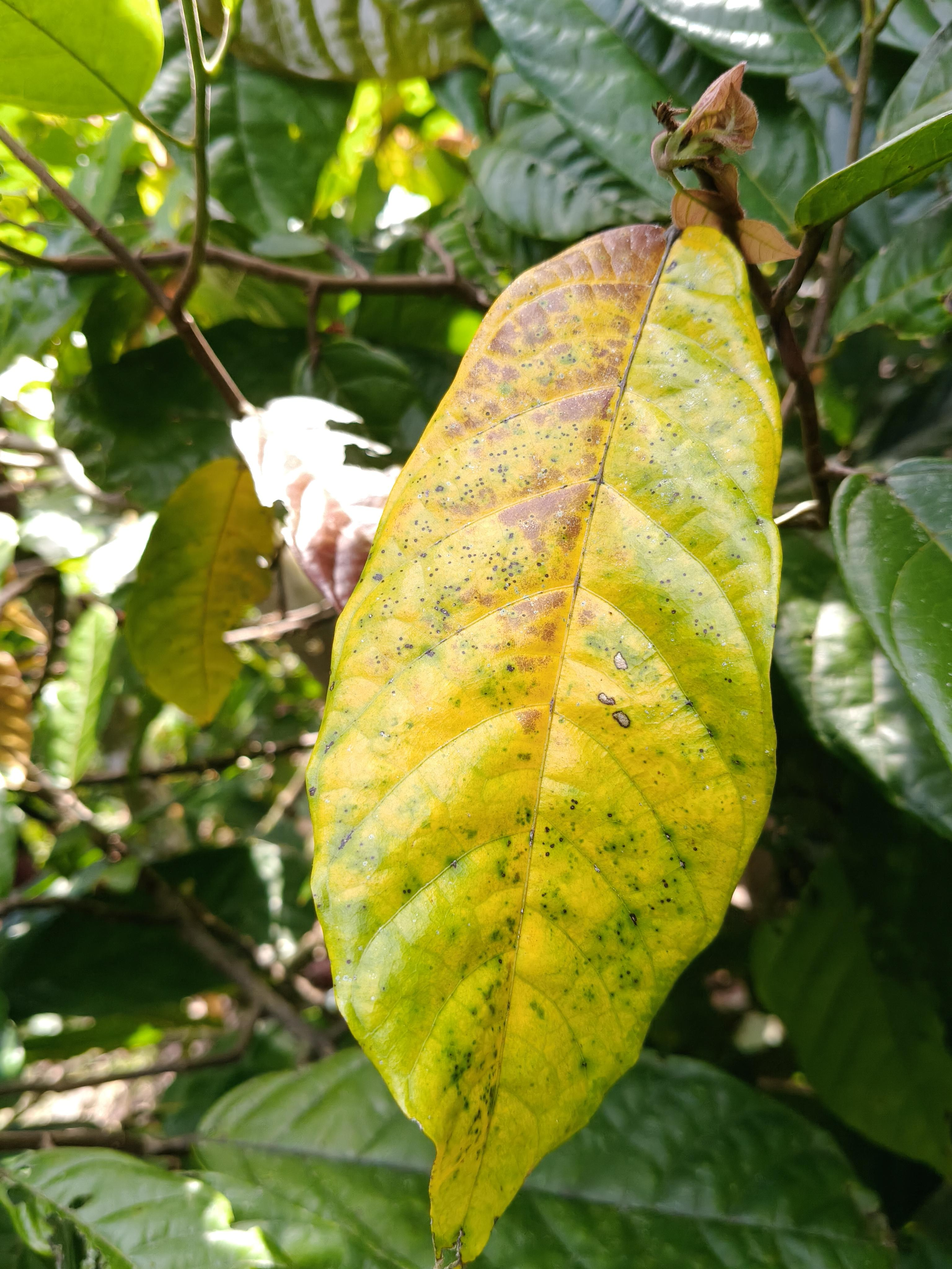deficiencia_potasio: (313, 211, 778, 1261)
